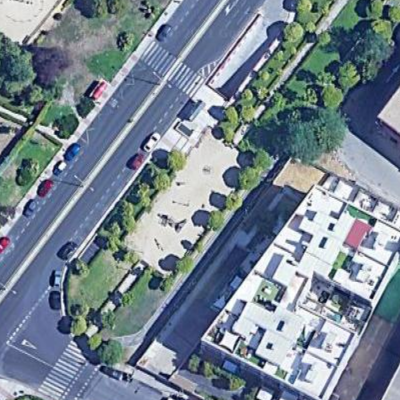tree: (283, 108, 350, 160), (1, 31, 44, 97), (354, 33, 392, 77), (321, 83, 348, 113), (100, 339, 126, 370), (337, 61, 360, 95), (149, 166, 172, 197), (121, 203, 142, 236), (111, 26, 135, 54), (250, 143, 272, 171), (206, 209, 230, 234), (68, 313, 92, 338), (282, 18, 305, 43), (167, 149, 188, 176), (239, 167, 261, 192), (117, 289, 138, 313), (221, 191, 244, 210), (223, 104, 242, 126), (175, 256, 198, 274), (242, 101, 258, 125), (240, 86, 256, 104)
